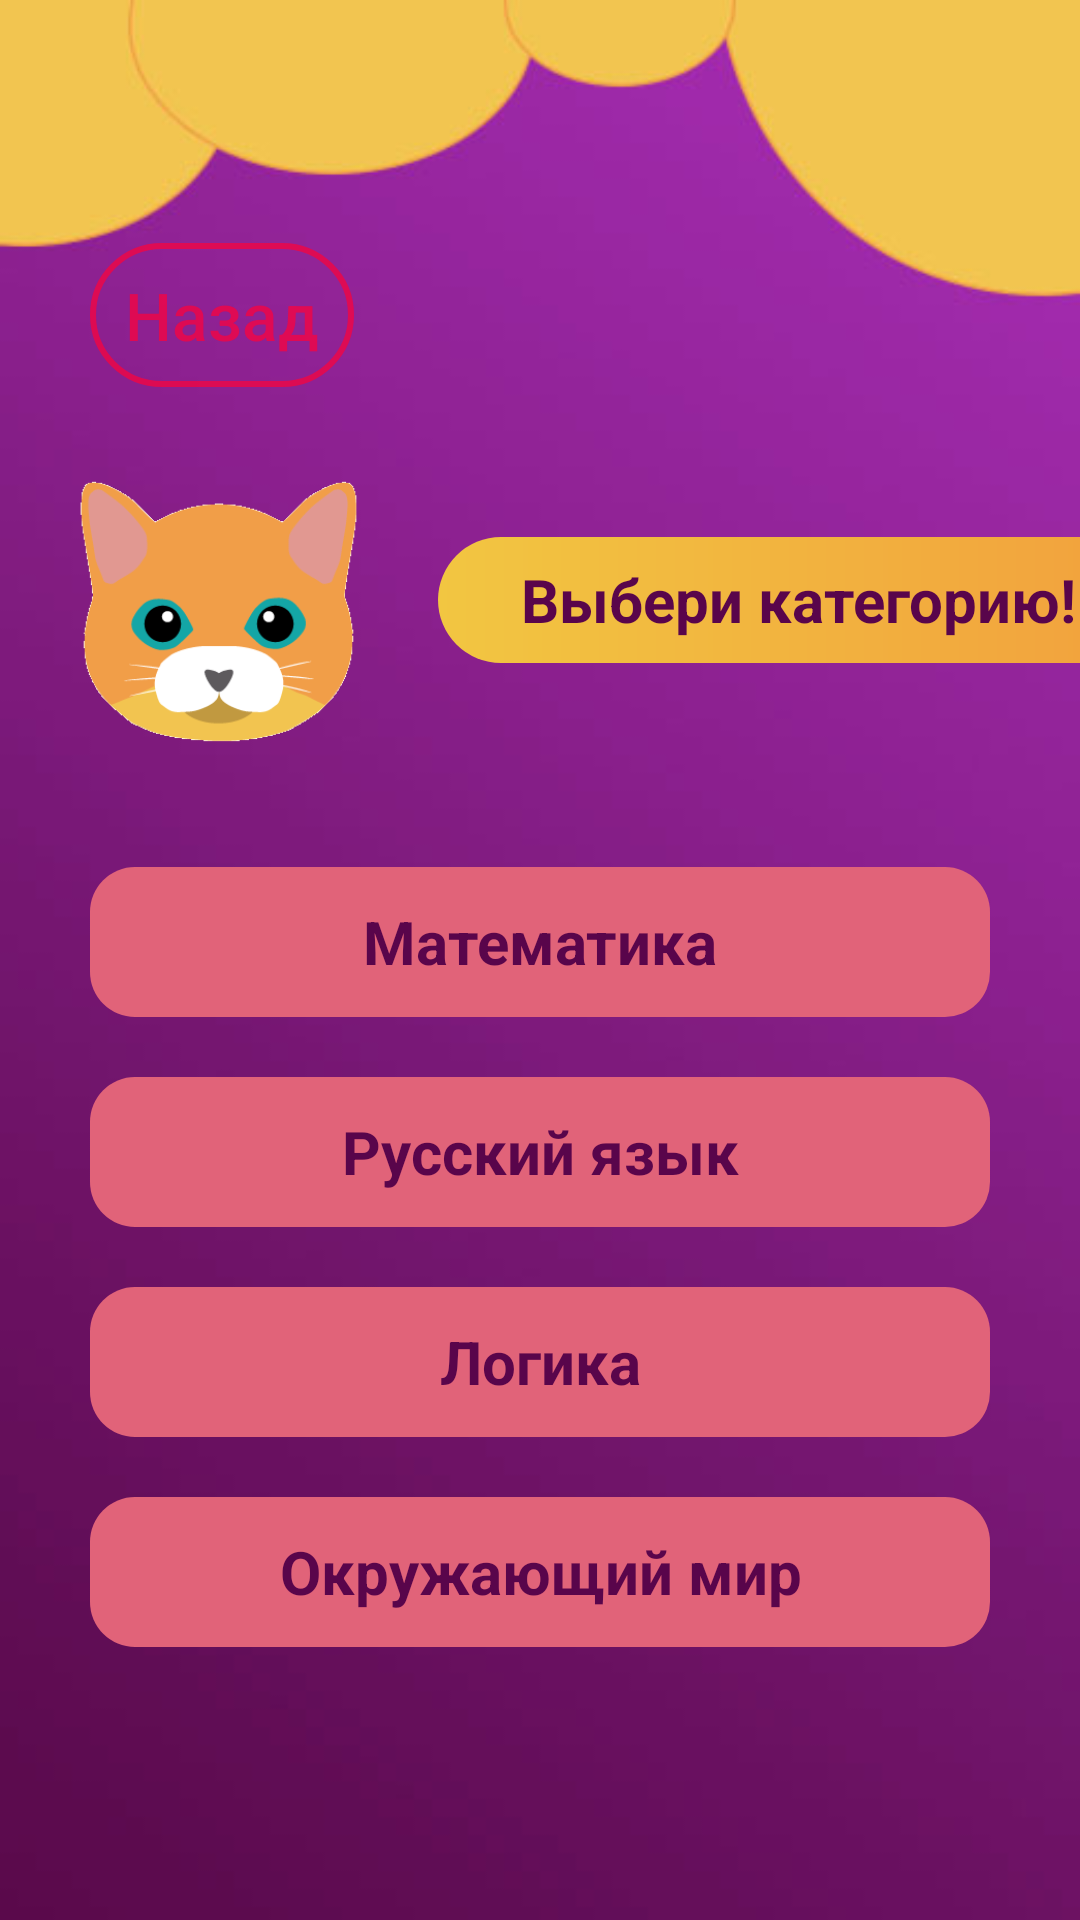

Icon bounding boxes for this 1080x1920 phone screenshot, format (x1, y1, x2, y2):
cat: (80, 481, 357, 742)
